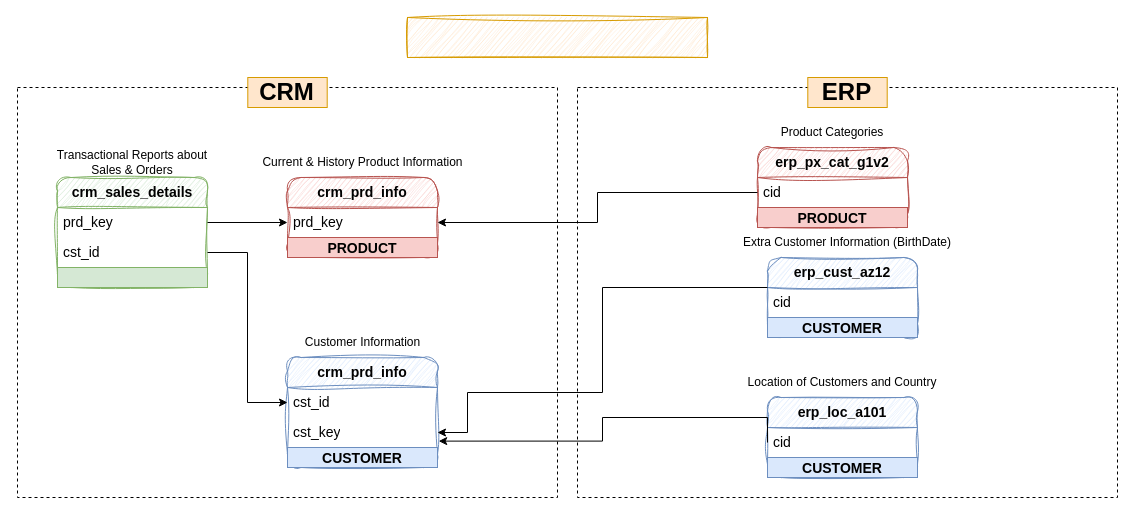
Some shapes in this 1135 by 515 pixel diagram are drawn without their labels. The centre of each missing label's shape, as x and y in pixels:
Integration Flow Diagram: point (557, 37)
SALES: point (132, 277)
